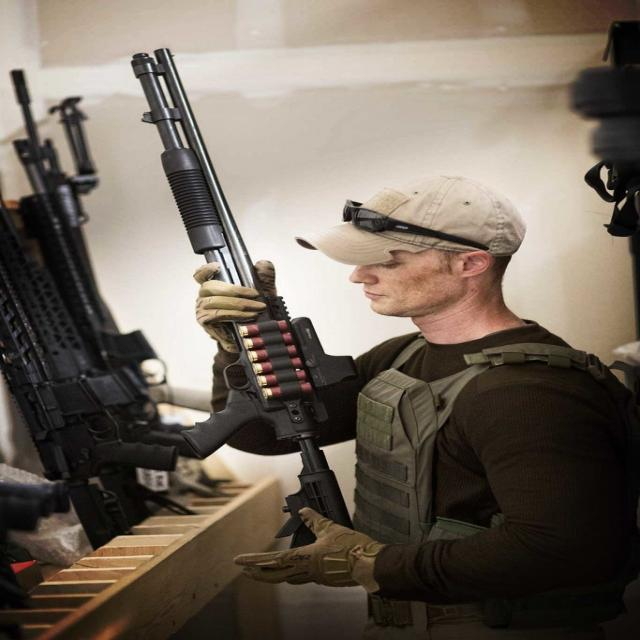weapon: (125, 45, 374, 549), (0, 68, 224, 548)
